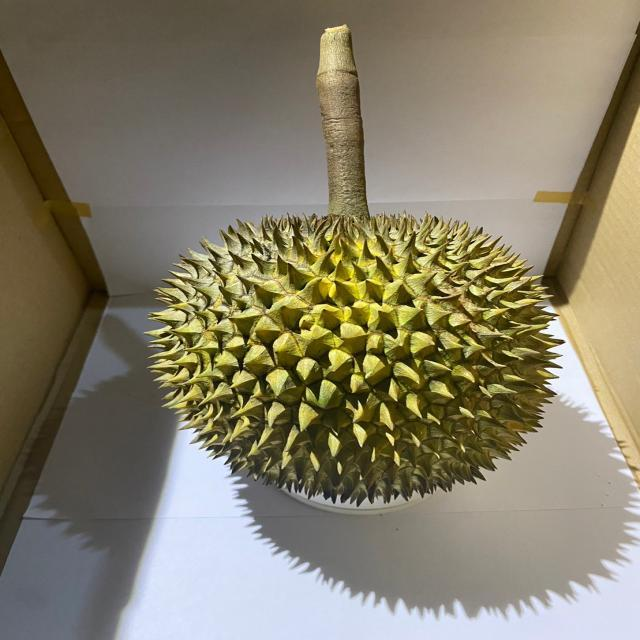immature: (147, 210, 569, 510)
